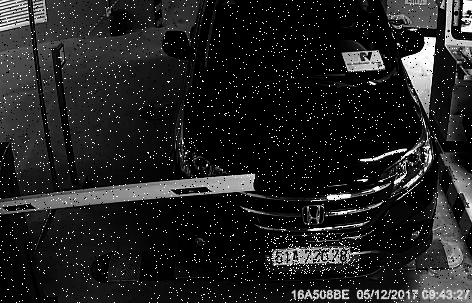License-plate: (267, 234, 363, 275)
